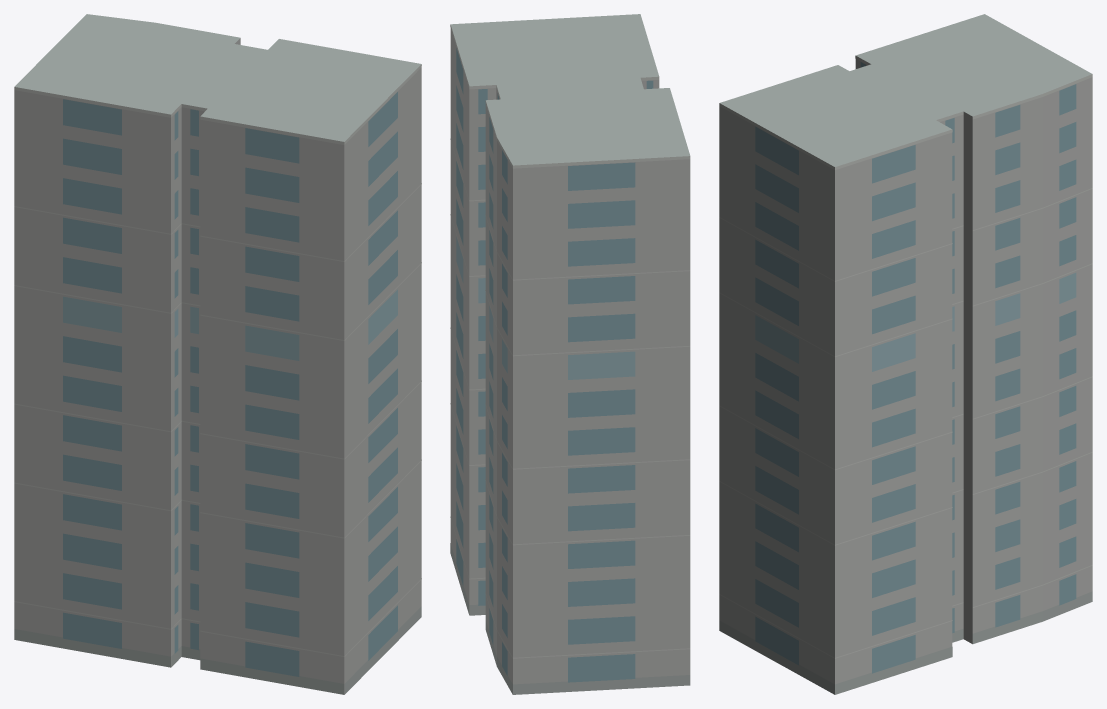
File: residential-f2a2538d-e205-4990-ae2c-5fafa87a0155.glb
3 views of the same model, side by side, from view 1: azimuth 30°, elevation 25°; view 2: azimuth 150°, elevation 25°; view 3: azimuth 270°, elevation 25° (orthographic). The views are drawn at different scales.
Visible parts, largest first — view 1: residential-f2a2538d-e205-4990-ae2c-5fafa87a0155.tmp; view 2: residential-f2a2538d-e205-4990-ae2c-5fafa87a0155.tmp; view 3: residential-f2a2538d-e205-4990-ae2c-5fafa87a0155.tmp.
Part boxes in pixels (x1,y1,x2,y2): residential-f2a2538d-e205-4990-ae2c-5fafa87a0155.tmp: [14, 14, 421, 694]; residential-f2a2538d-e205-4990-ae2c-5fafa87a0155.tmp: [450, 14, 690, 694]; residential-f2a2538d-e205-4990-ae2c-5fafa87a0155.tmp: [719, 14, 1092, 694].
Size of the model in its own units: 26.17 by 42 by 26.94.
